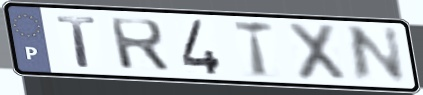4: (179, 18, 223, 76)
N: (345, 24, 409, 85)
R: (106, 16, 173, 74)
T: (231, 19, 277, 80), (53, 14, 100, 69)
X: (284, 20, 350, 84)
